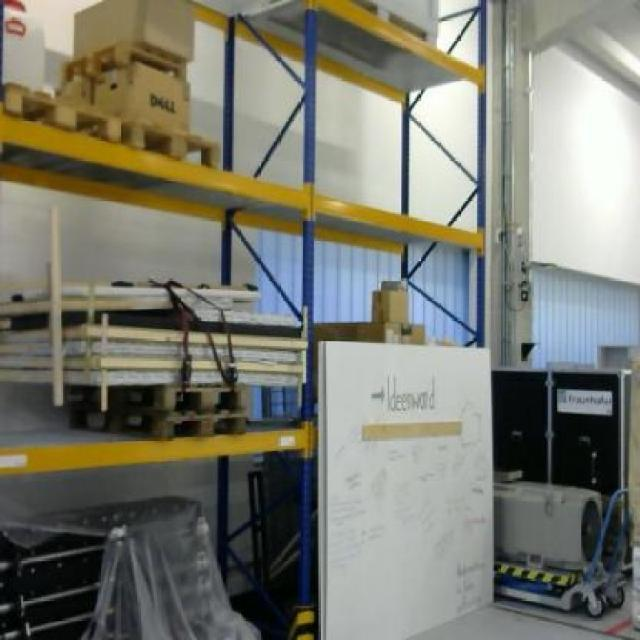box: (73, 0, 194, 58), (92, 61, 192, 130), (368, 288, 408, 327)
